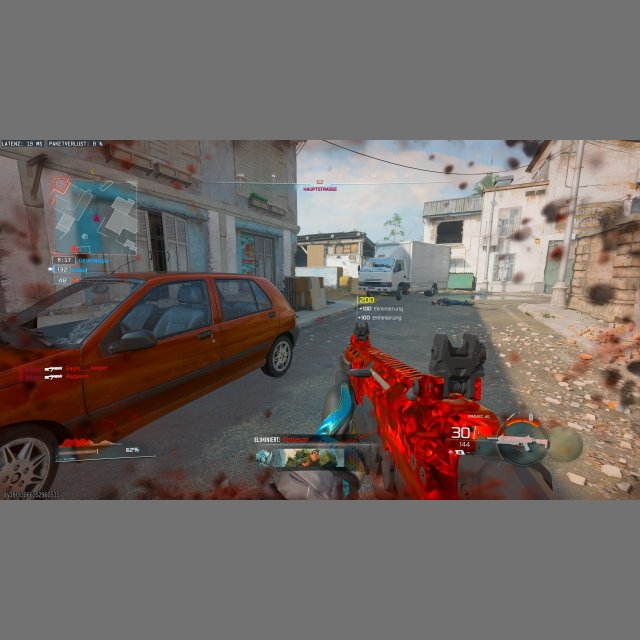head: (350, 319, 371, 348)
